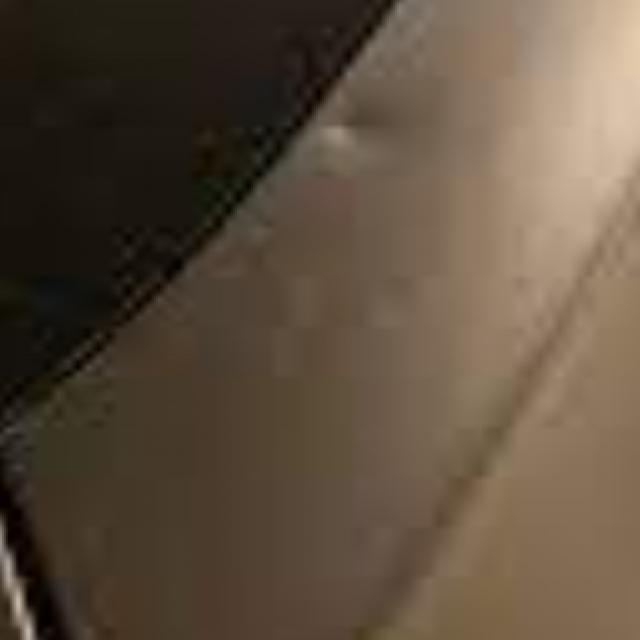dents: (305, 106, 428, 190)
